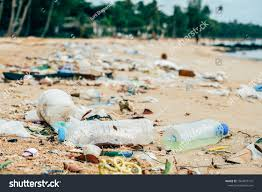garbage: (29, 46, 242, 175)
